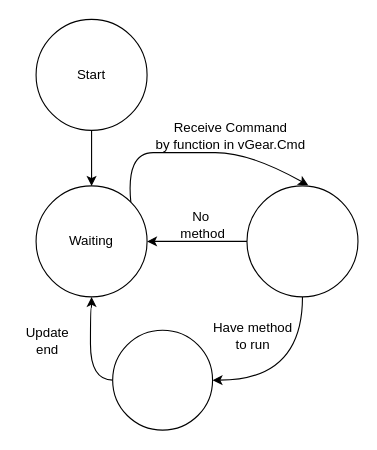
The diagram is 377 pixels wide and 450 high, and some of its shapes have lost their labels. The centre of each missing label's shape, as x and y in pixels:
"Check corresponding method of command" goes at (x=302, y=241).
"Run methods" goes at (x=162, y=379).
